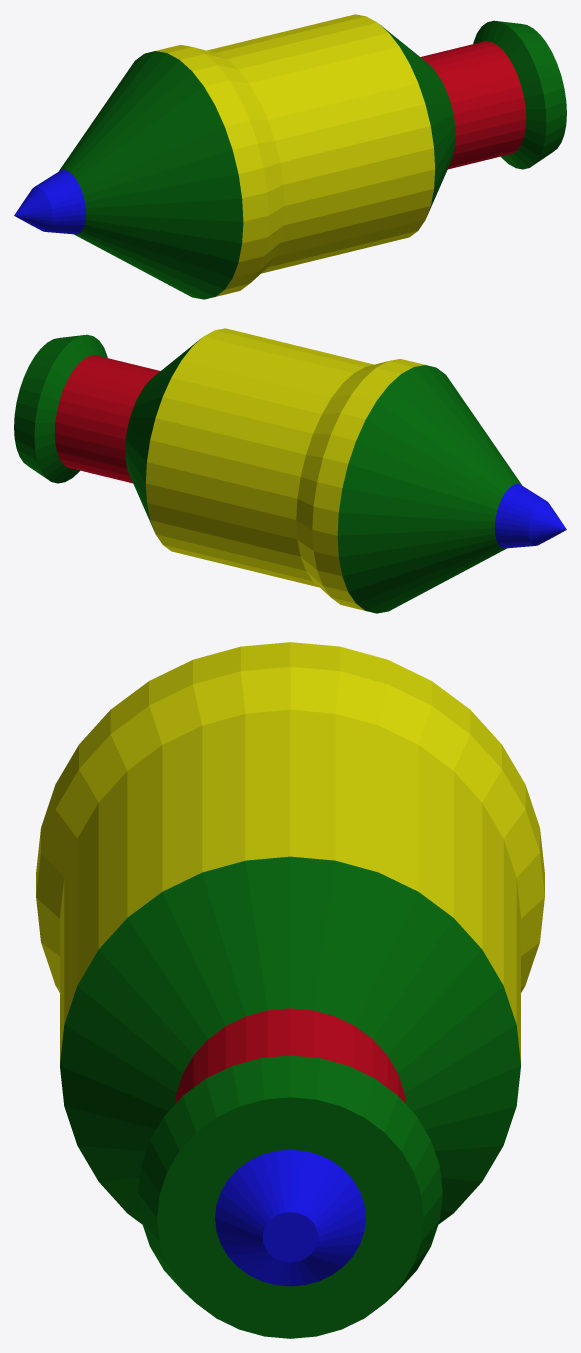
Rendered from Kalibr.fbx.
The picture shows the model from 3 angles, top to bottom: view 1: azimuth 30°, elevation 25°; view 2: azimuth 150°, elevation 25°; view 3: azimuth 270°, elevation 25°; orthographic projection. The views are drawn at different scales.
Visible parts, largest first — view 1: Цилиндр; view 2: Цилиндр; view 3: Цилиндр.
Part boxes in pixels (x1,y1,x2,y2): Цилиндр: (14, 14, 566, 299); Цилиндр: (14, 328, 566, 613); Цилиндр: (36, 642, 544, 1338).
Bounding box in the file's own units: 540 × 221 × 221.
